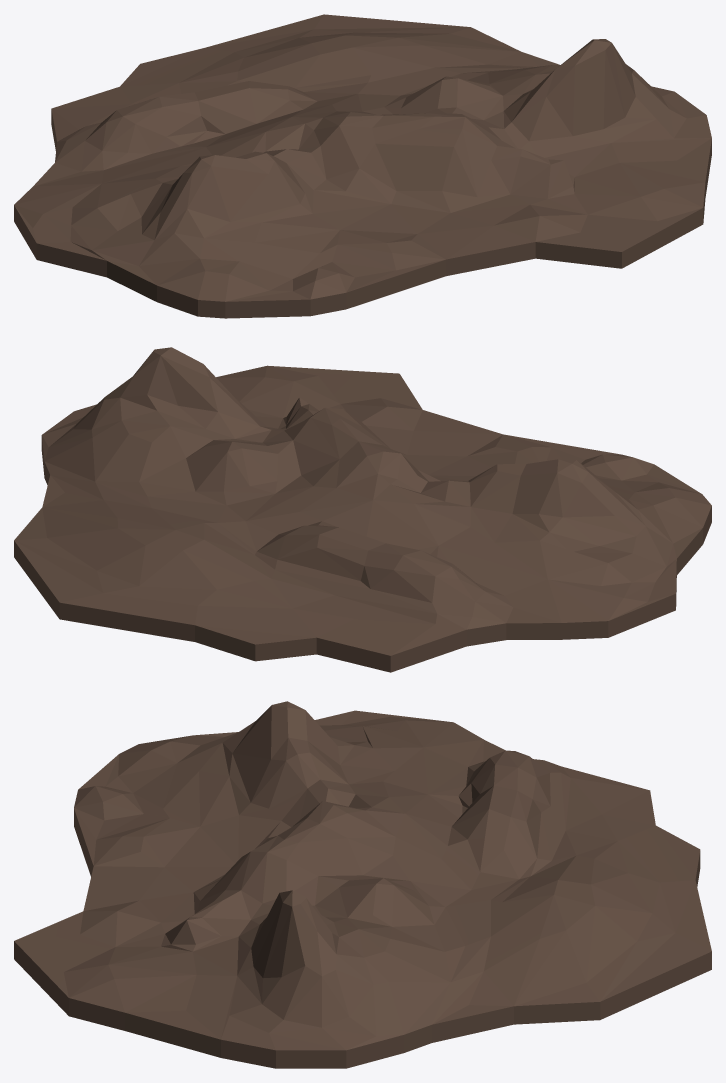
Rendered from delh_terr_01_03.fbx.
3 renders of one model, top to bottom at view 1: azimuth 30°, elevation 25°; view 2: azimuth 150°, elevation 25°; view 3: azimuth 270°, elevation 25°, orthographic. The views are drawn at different scales.
Parts seen in each view (by area): view 1: delh_terr_01_03; view 2: delh_terr_01_03; view 3: delh_terr_01_03.
Boxes of the visible parts, x1=… form: delh_terr_01_03: x1=14, y1=14, x2=711, y2=318; delh_terr_01_03: x1=14, y1=347, x2=711, y2=672; delh_terr_01_03: x1=14, y1=701, x2=711, y2=1068.
Bounding box in the file's own units: 17052 × 2862 × 14803.
